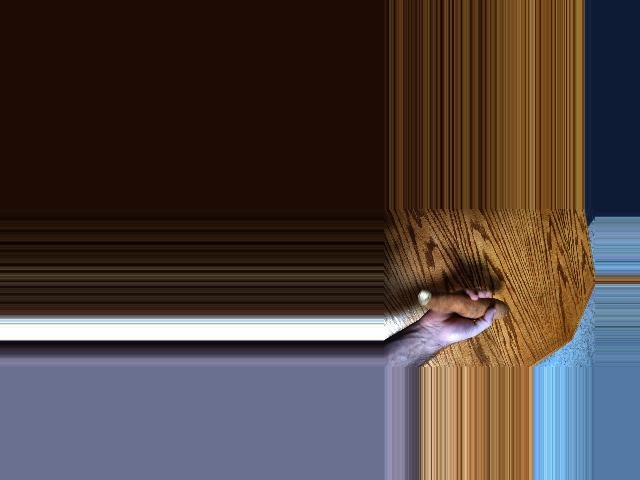sweet_potato: (415, 292, 515, 323)
